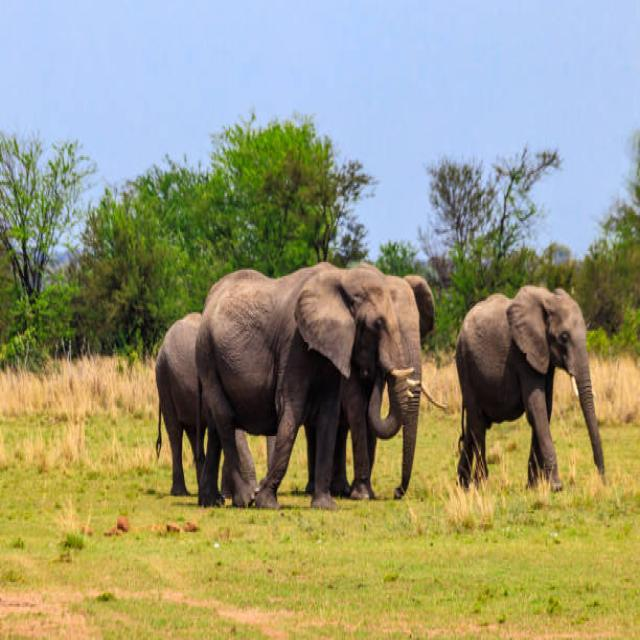Elephant: (129, 234, 443, 543), (456, 249, 612, 560)
